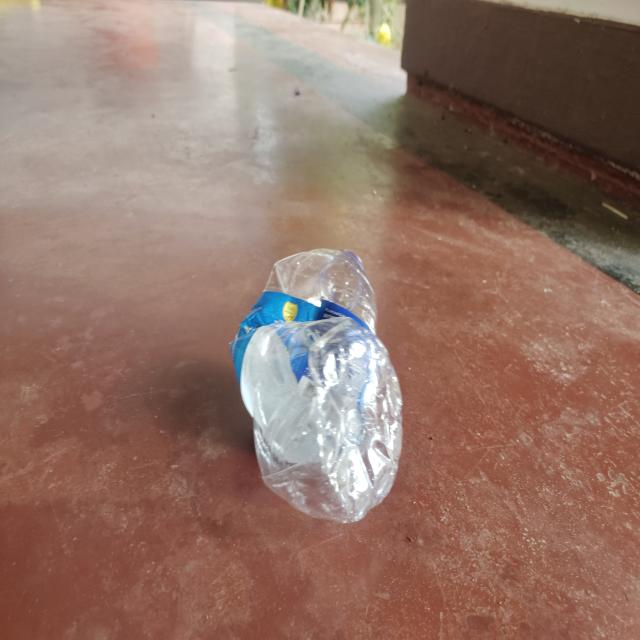plastic: (227, 245, 406, 530)
